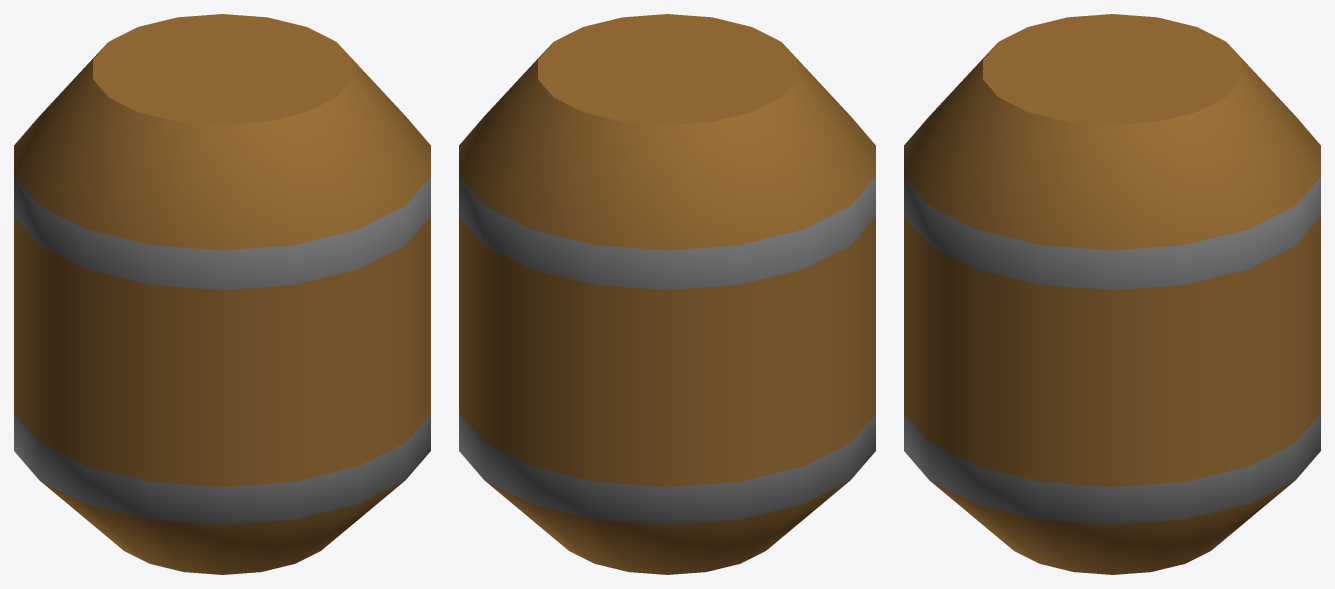
The model's file is oak.FBX.
3 renders of one model, left to right at view 1: azimuth 30°, elevation 25°; view 2: azimuth 150°, elevation 25°; view 3: azimuth 270°, elevation 25°, orthographic.
Visible parts, largest first — view 1: Cylinder001; view 2: Cylinder001; view 3: Cylinder001.
Boxes of the visible parts, <box> form: Cylinder001: <box>14,14,430,574</box>; Cylinder001: <box>459,14,875,574</box>; Cylinder001: <box>904,14,1320,574</box>.
Bounding box in the file's own units: 0.1207 × 0.1439 × 0.1189.
